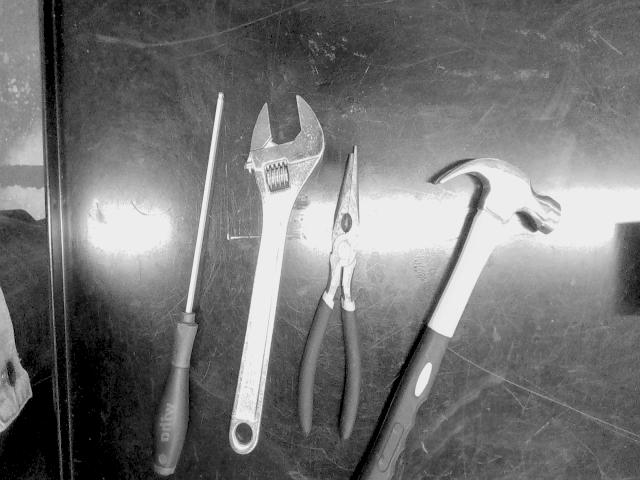Adjustable spanner: (230, 96, 324, 453)
Hammer: (359, 158, 561, 480)
Needle-nose pliers: (299, 147, 361, 438)
Screwdriver: (154, 92, 224, 475)
